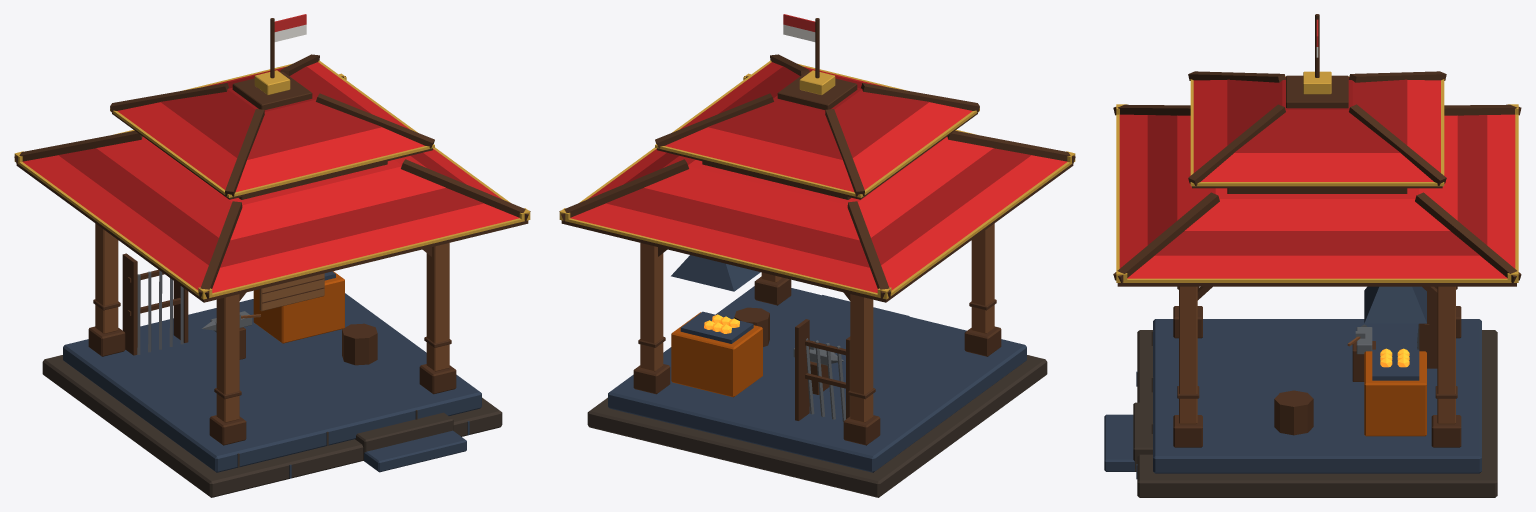
The model's file is bengkel_empu_v001.glb.
The picture shows the model from 3 angles, left to right: view 1: azimuth 30°, elevation 25°; view 2: azimuth 150°, elevation 25°; view 3: azimuth 270°, elevation 25°; orthographic projection. The views are drawn at different scales.
Visible parts, largest first — view 1: Bengkel_Empu, Papan_Nama; view 2: Bengkel_Empu; view 3: Bengkel_Empu.
Part boxes in pixels (bbox=[...]): Bengkel_Empu: bbox=[14, 14, 530, 497]; Papan_Nama: bbox=[259, 273, 324, 311]; Bengkel_Empu: bbox=[559, 14, 1075, 497]; Bengkel_Empu: bbox=[1104, 14, 1521, 497].
Bounding box in the file's own units: 5.21 × 5.75 × 5.33.
